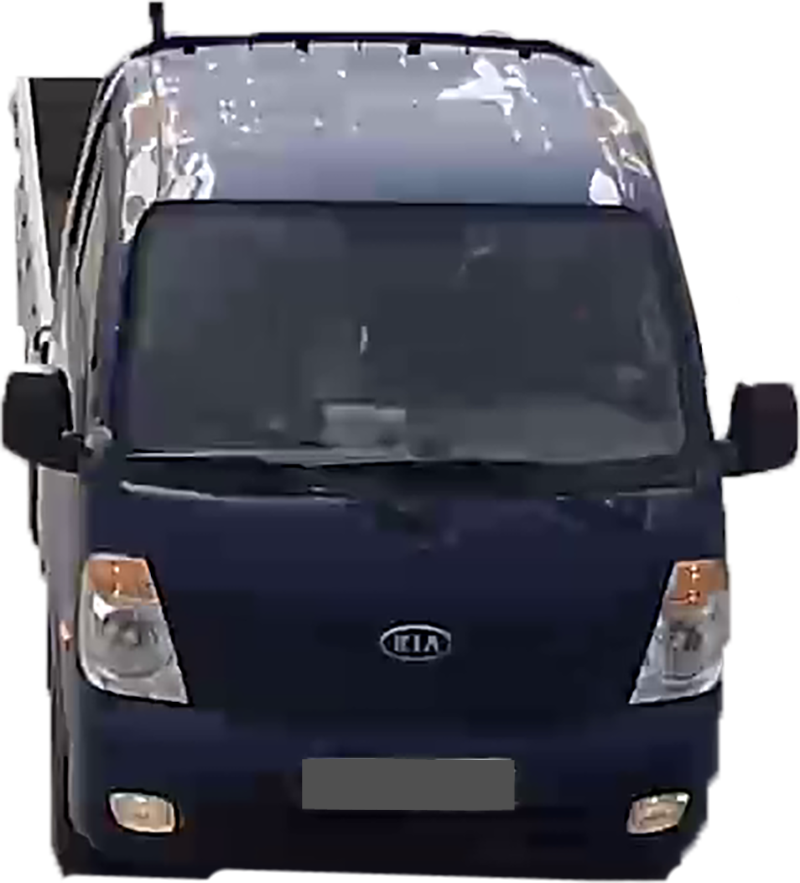P1_: (518, 759, 536, 773)
bbox: (301, 754, 517, 814)
